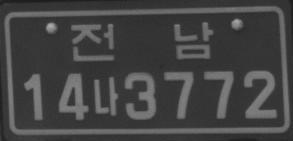1: (22, 71, 49, 121)
2: (242, 69, 278, 120)
3: (123, 70, 157, 121)
4: (57, 71, 90, 120)
7: (202, 69, 235, 119), (163, 70, 195, 120)
나: (92, 75, 119, 117)
전남_D: (70, 20, 214, 62)
